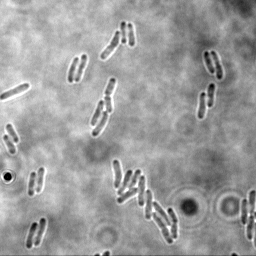Dividing: (98, 29, 122, 62), (102, 76, 118, 114), (245, 189, 256, 241), (73, 53, 89, 84), (210, 48, 224, 81)
Microcolony: (111, 157, 180, 246)
Rod: (1, 82, 31, 101), (90, 110, 110, 138), (89, 99, 106, 128), (33, 217, 48, 248), (24, 222, 40, 249), (66, 56, 81, 84), (2, 133, 18, 156), (5, 122, 20, 145), (202, 50, 215, 76), (34, 167, 46, 195), (26, 171, 38, 198), (205, 82, 217, 109), (196, 92, 207, 120), (126, 21, 137, 48), (239, 198, 249, 226), (119, 19, 128, 45)
